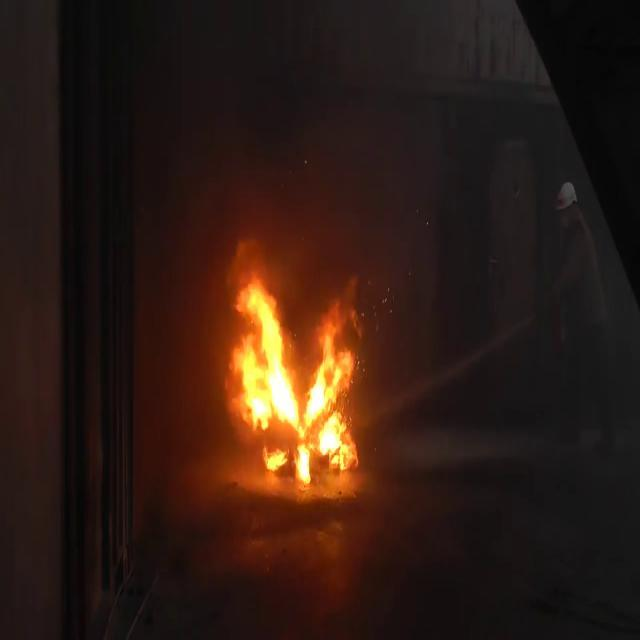Fire: (220, 248, 367, 484)
